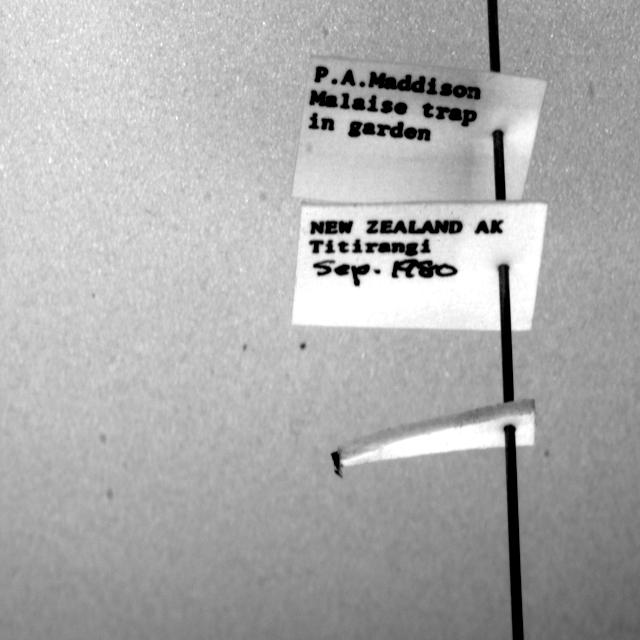mixed_label: (292, 201, 548, 330)
typed_label: (292, 56, 546, 202)
